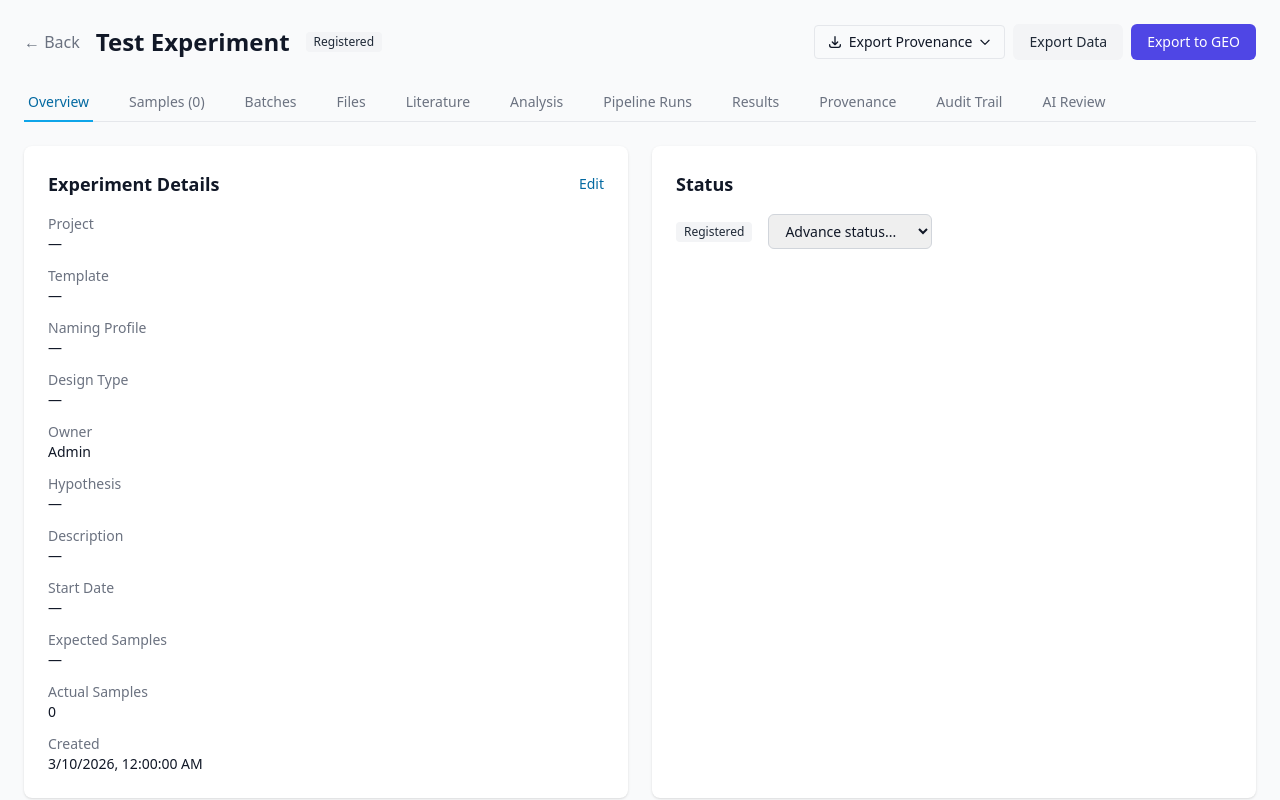
Test: Experiment Detail - Files Tab › shows empty state when no files exist
The image size is (1280, 800).
Expected: the heading "Test Experiment" is shown, [96,26,290,58]
Click the button "Files": (351, 103) [333,84,370,122]
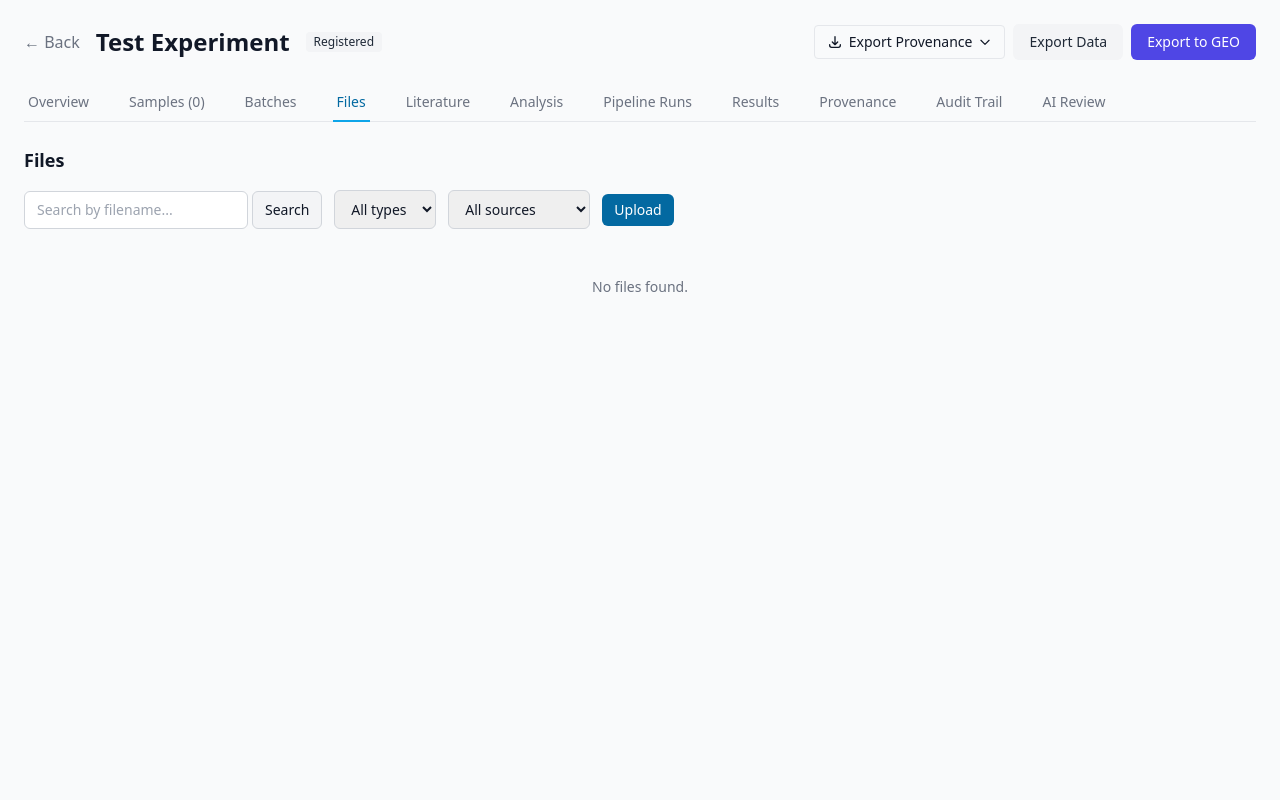
Expected: the text "No files found." is shown, [592,277,688,296]
